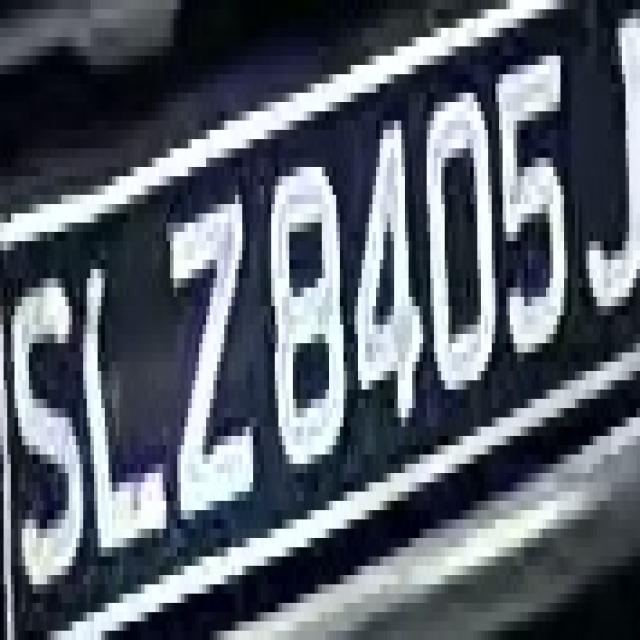0: (408, 84, 502, 426)
4: (340, 65, 427, 473)
5: (488, 28, 571, 389)
8: (260, 121, 351, 482)
J: (578, 46, 640, 380)
L: (72, 223, 181, 575)
S: (0, 278, 83, 631)
Z: (148, 158, 268, 538)
